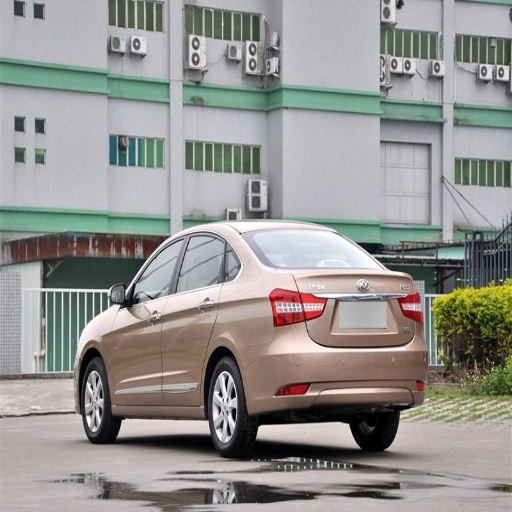back_bumper: (242, 325, 427, 414)
back_glass: (243, 227, 369, 267)
back_left_door: (164, 232, 226, 403)
tailgate: (291, 265, 413, 347)
